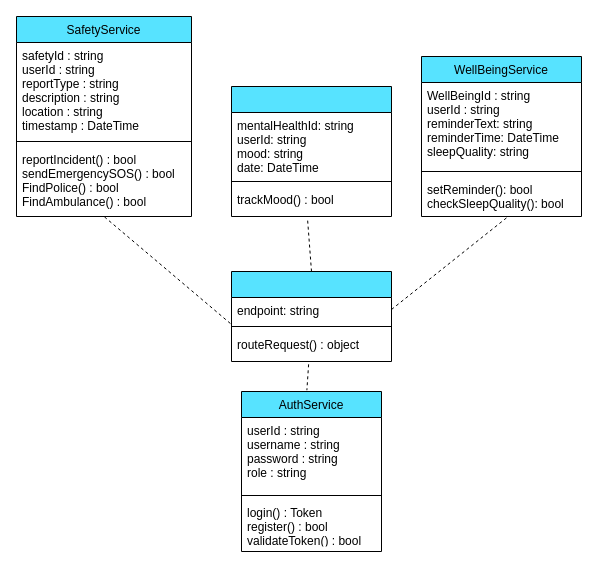
This 598x568 diagram has some shape labels left out. The box of each missing label's shape, as (x1, y1, x2, y2) in pixels:
APIGateway: (230, 270, 392, 362)
MentalHealthService: (230, 86, 392, 216)
